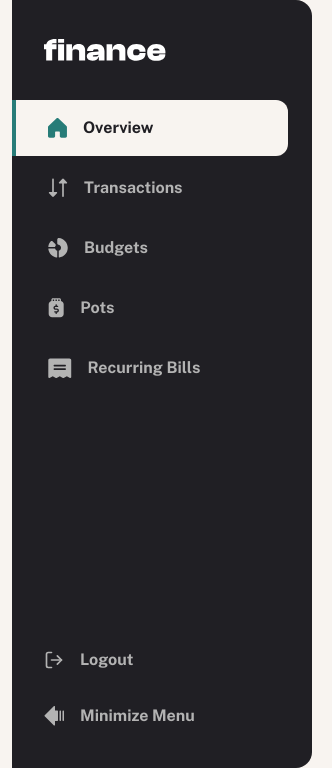
it: Sidebar › collapses when Minimize Menu is clicked, hiding labels
The width and height of the screenshot is (332, 768).
Expected: the text "Overview" is shown, left=83, top=116, right=153, bottom=140
Click the button "Minimize Menu".
click(162, 716)  # box left=12, top=688, right=312, bottom=744
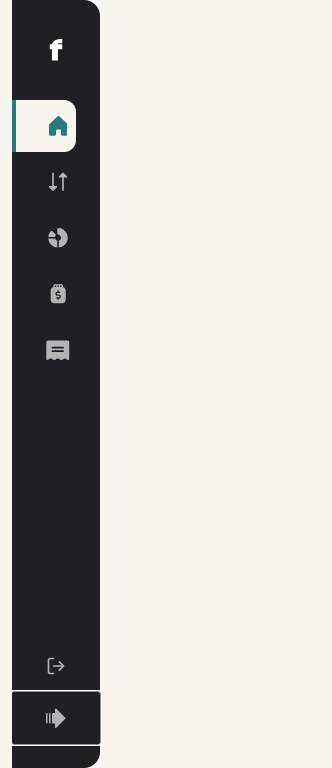
Result: the text "Overview" is gone
